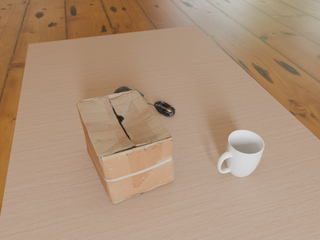box: (77, 90, 175, 204)
cup: (217, 130, 264, 177)
mouse: (114, 86, 144, 97)
